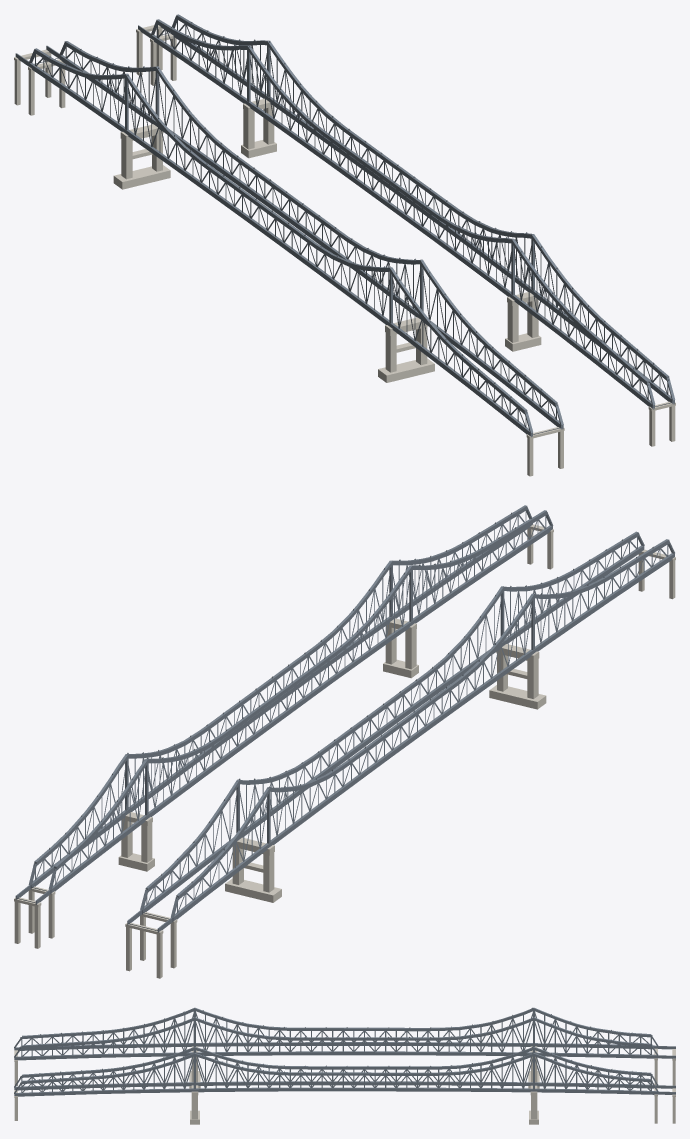
Rendered from nola-crescent-city-connection.glb.
3 views of the same model, one above another, from view 1: azimuth 30°, elevation 25°; view 2: azimuth 150°, elevation 25°; view 3: azimuth 270°, elevation 25° (orthographic). The views are drawn at different scales.
Parts seen in each view (by area): view 1: Crescent City Connection; view 2: Crescent City Connection; view 3: Crescent City Connection.
Boxes of the visible parts, bbox=[...] form: Crescent City Connection: bbox=[14, 14, 675, 476]; Crescent City Connection: bbox=[14, 505, 675, 978]; Crescent City Connection: bbox=[14, 1007, 675, 1124].
Bounding box in the file's own units: 163 × 111 × 937.
